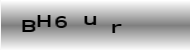6: (53, 15, 68, 29)
B: (21, 19, 35, 33)
H: (35, 13, 51, 27)
r: (110, 23, 122, 33)
u: (83, 15, 96, 26)
